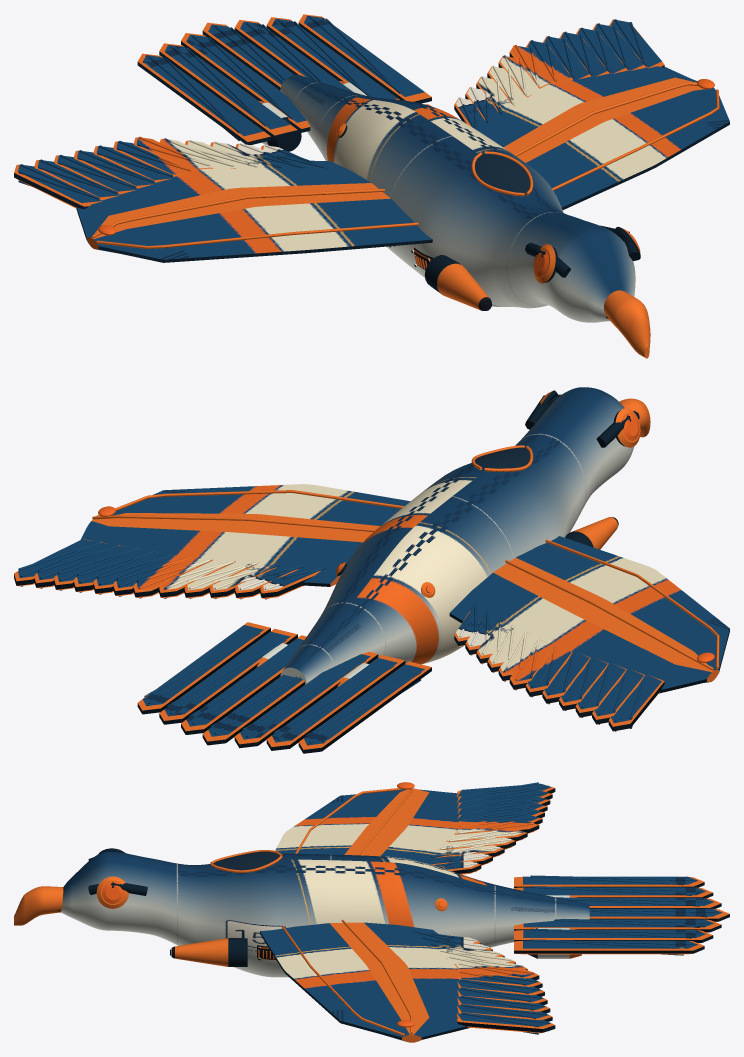
3 renders of one model, top to bottom at view 1: azimuth 30°, elevation 25°; view 2: azimuth 150°, elevation 25°; view 3: azimuth 270°, elevation 25°, orthographic. The views are drawn at different scales.
Visible parts, largest first — view 1: shrike_hull; view 2: shrike_hull; view 3: shrike_hull.
Part boxes in pixels (x1,y1,x2,y2): shrike_hull: (14,14,729,358); shrike_hull: (14,387,729,753); shrike_hull: (14,782,729,1042).
Size of the model in its own units: 13.49 by 2.96 by 16.5.
Materials: 1 (1 with a texture image).
